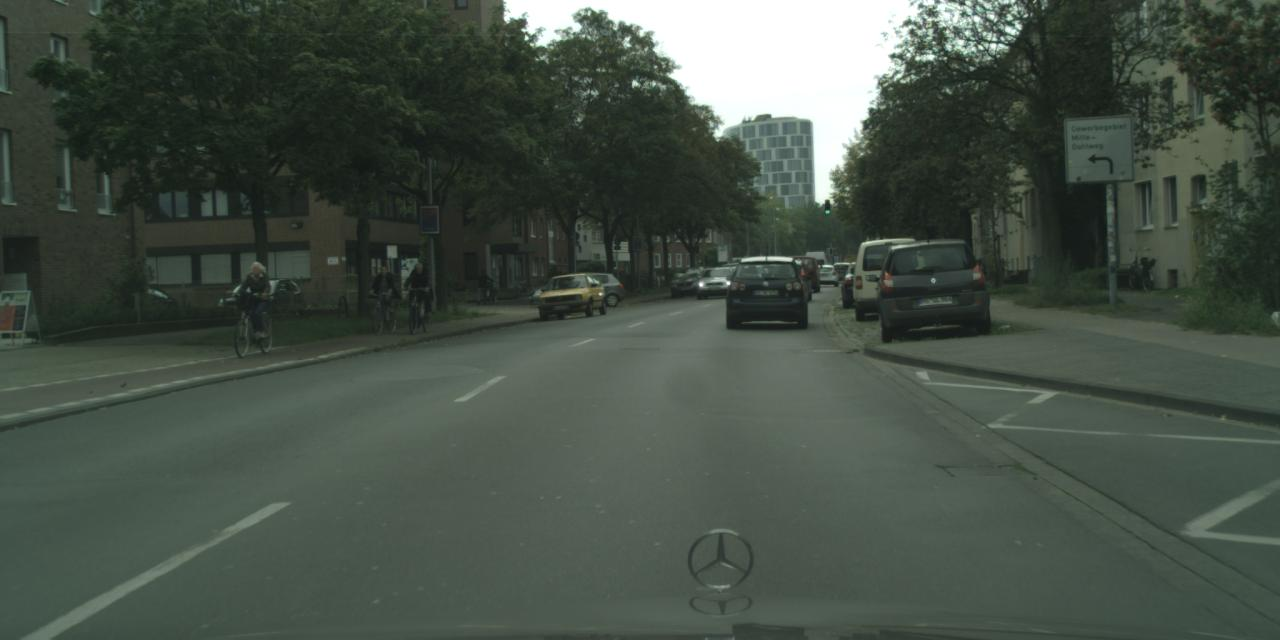ped: (240, 261, 272, 340), (405, 262, 429, 323), (373, 266, 395, 321), (474, 268, 488, 303)
